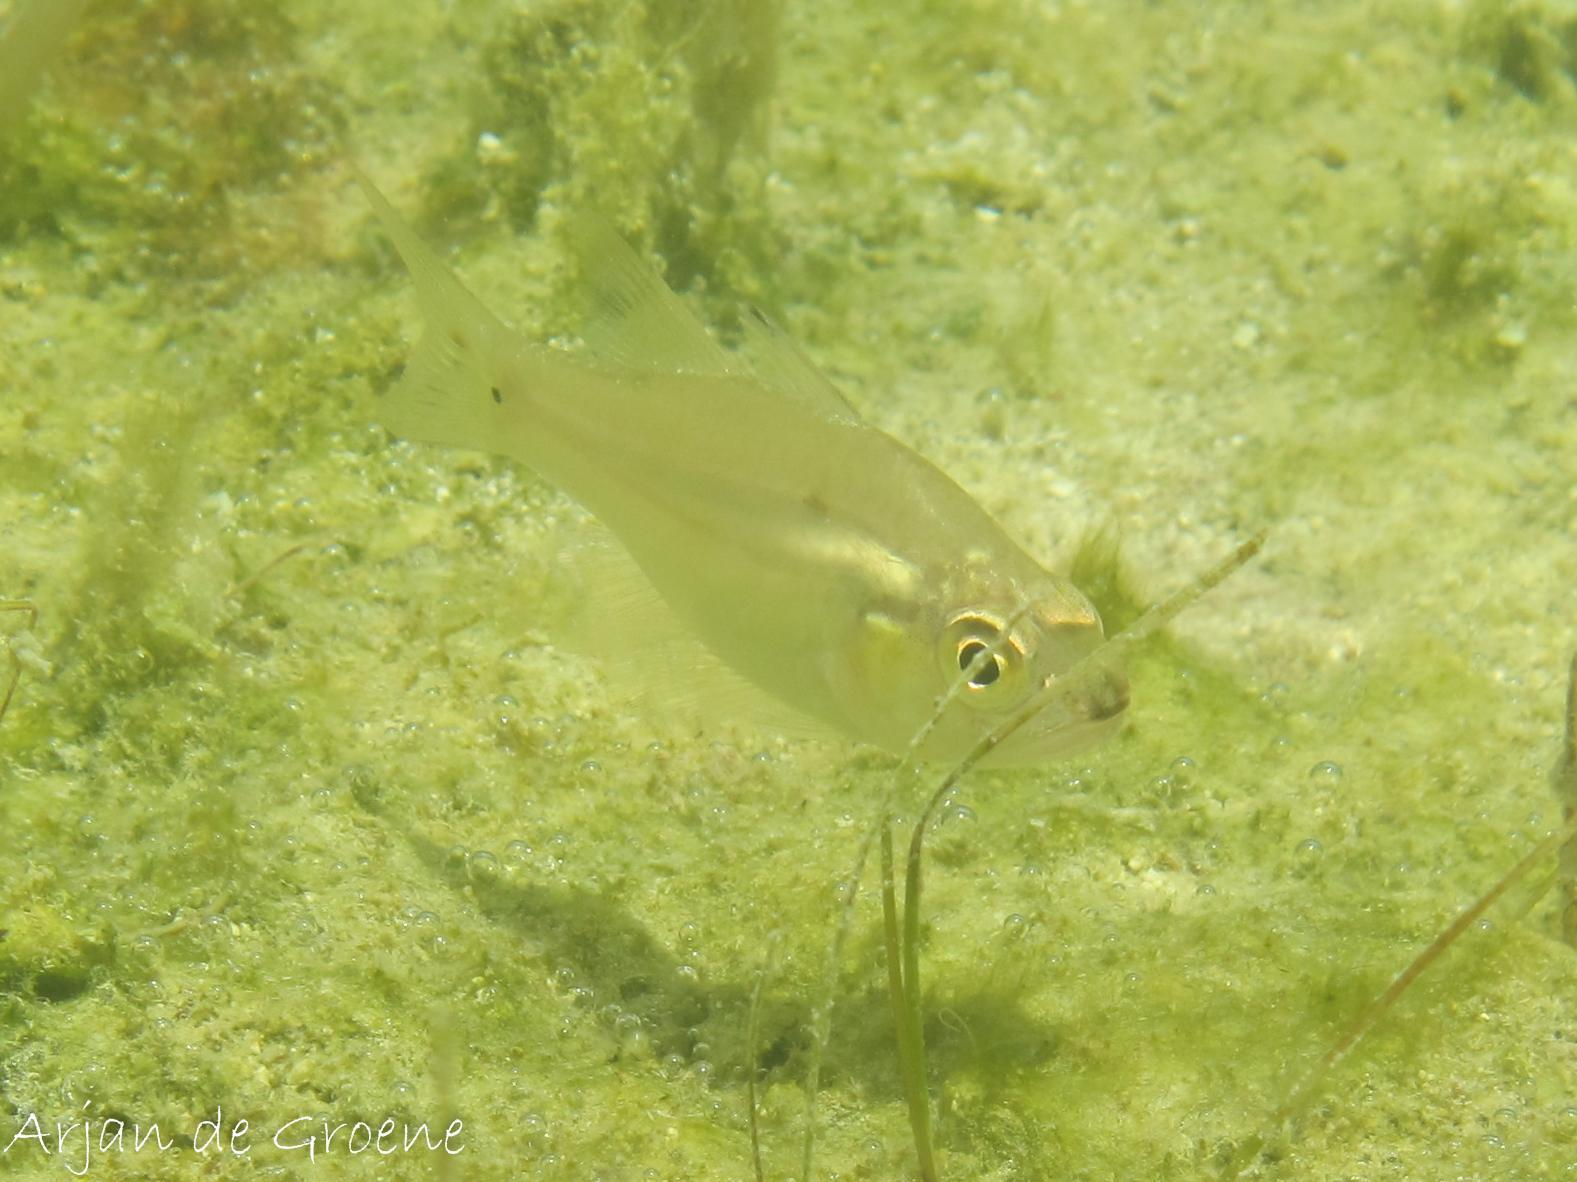Fish: (323, 138, 1151, 808)
